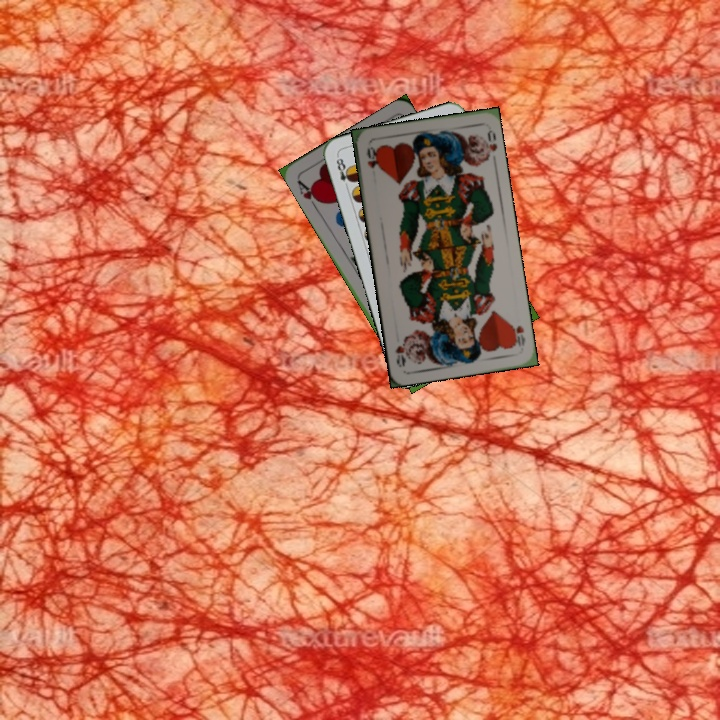E8: (332, 152, 355, 192)
HA: (293, 176, 324, 212)
HO: (507, 319, 528, 349), (362, 143, 380, 171)
